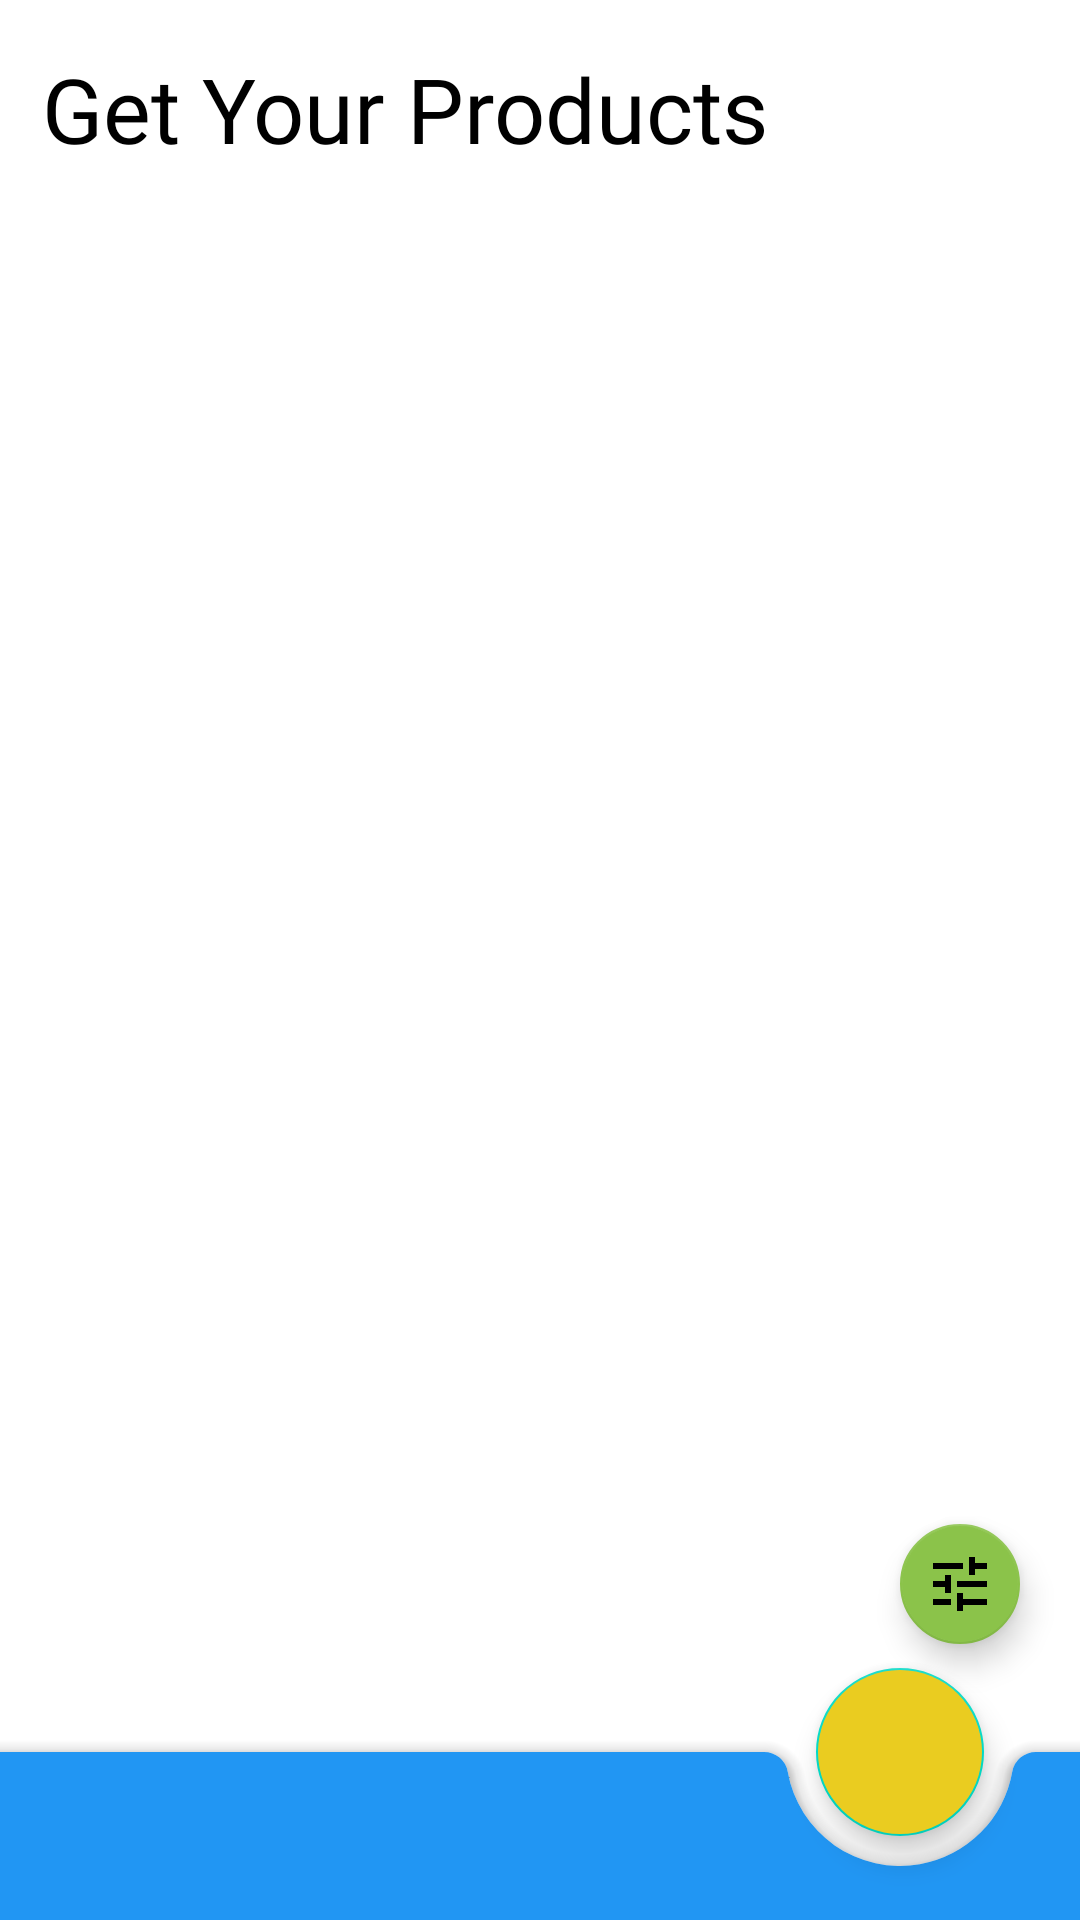

Named icons in this screenshot (1080px x 1920px) and their bounding boxes, box(x1, y1, x2, y2):
tune: box(900, 1524, 1023, 1656)
